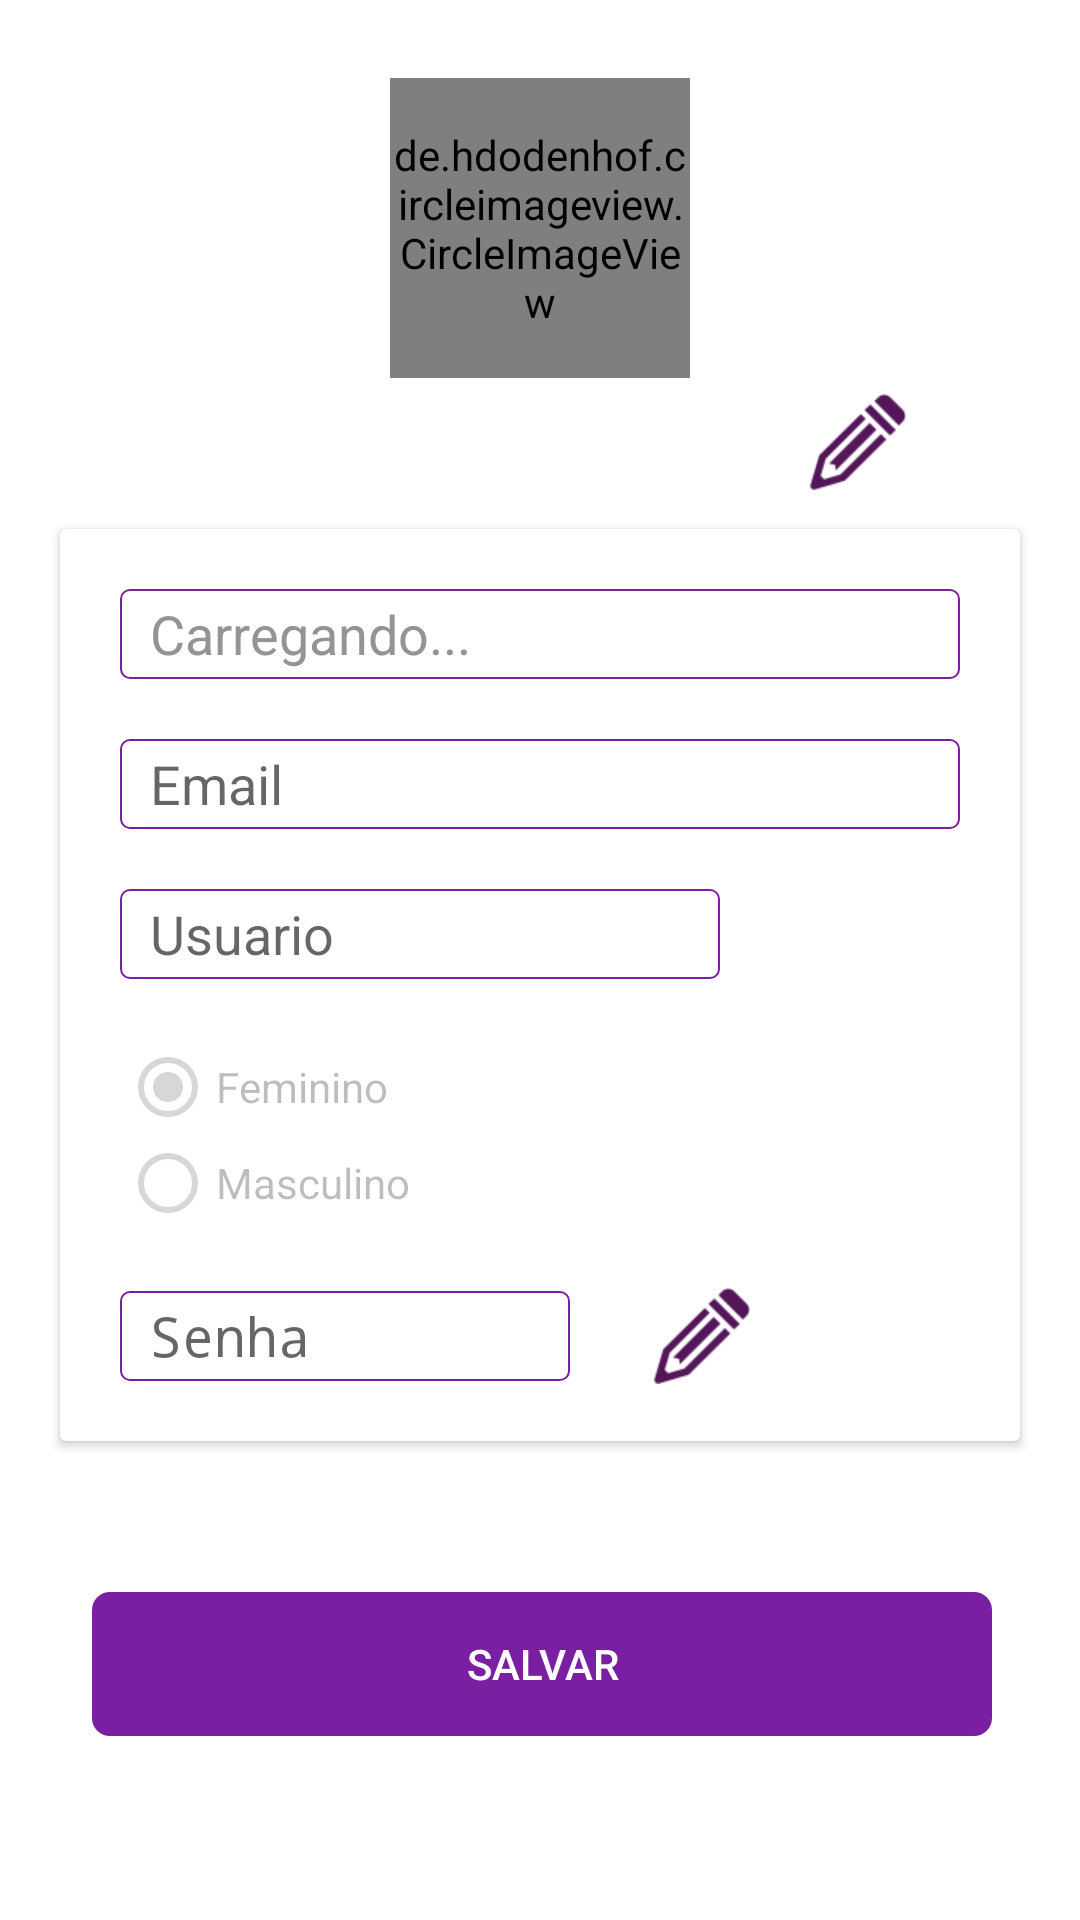

Where icons sit on this 1080px x 1920px app screen, as rect(x1, y1, x2, y2):
edit purpe: rect(810, 394, 906, 490), rect(654, 1288, 750, 1384)
